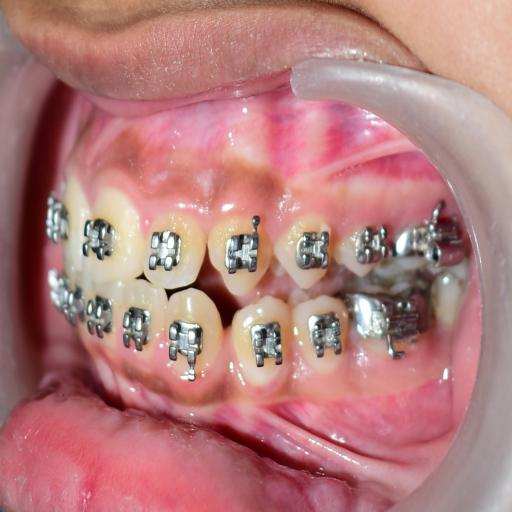correct_brace: (227, 294, 297, 401), (275, 208, 336, 290), (219, 214, 267, 278), (307, 307, 347, 365), (169, 316, 207, 374), (247, 318, 288, 371), (147, 224, 185, 274)
incorrect_brace: (137, 206, 208, 292), (294, 228, 333, 275)
